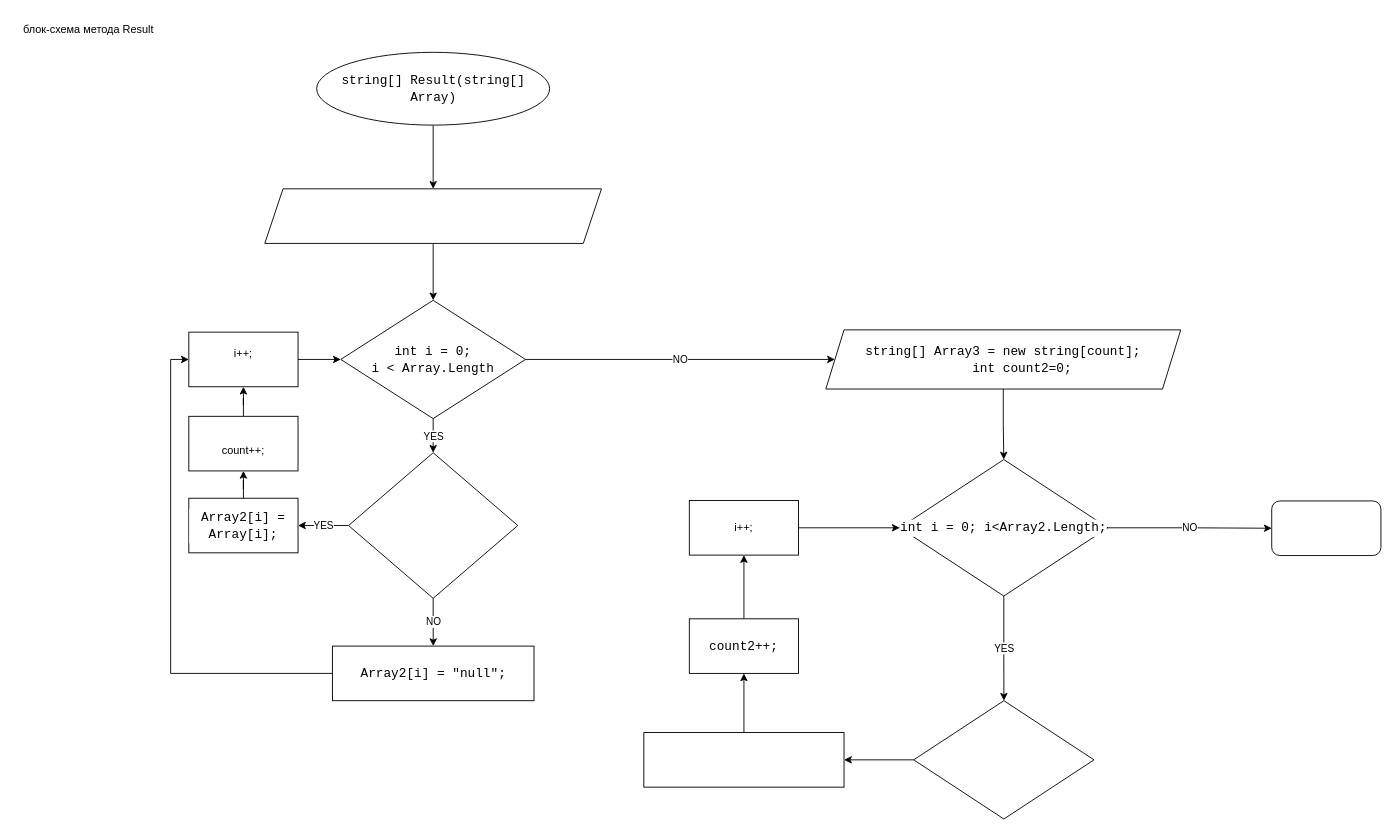
Image size: 1397x834. Some labels were removed from this diagram. The centre of each missing label's shape, as x and y in pixels:
Array2[i] != "null": the point at 1003,759
Array3[count2] = Array2[i];: the point at 743,759
Array[i].Length <= 3: the point at 433,525
return Array3;: the point at 1326,528
string[] Array2 = new string[Array.Length]; int count = 0;: the point at 433,215
